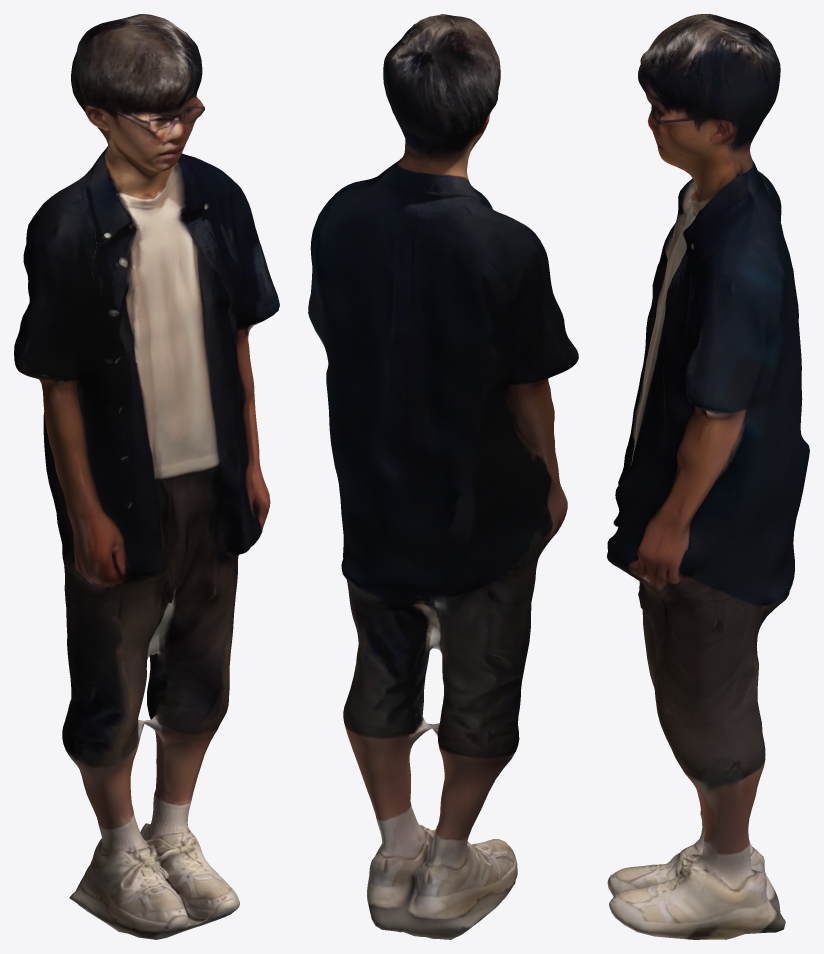
The model's file is kanta.glb.
The picture shows the model from 3 angles, left to right: view 1: azimuth 30°, elevation 25°; view 2: azimuth 150°, elevation 25°; view 3: azimuth 270°, elevation 25°; orthographic projection.
Visible parts, largest first — view 1: baked_mesh; view 2: baked_mesh; view 3: baked_mesh.
Part boxes in pixels (bbox=[...]): baked_mesh: bbox=[14, 14, 279, 939]; baked_mesh: bbox=[308, 14, 578, 939]; baked_mesh: bbox=[607, 14, 809, 939].
Size of the model in its own units: 0.5562 by 1.82 by 0.3706.
Materials: 1 (1 with a texture image).
